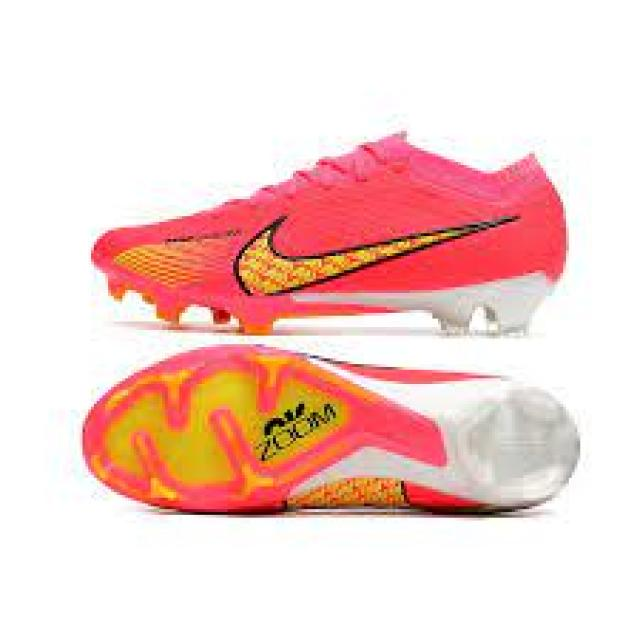shoes: (72, 132, 590, 519), (78, 129, 578, 345)
